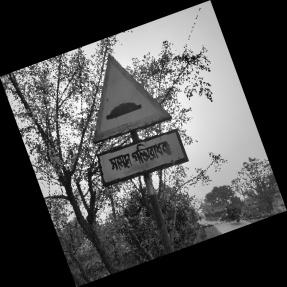Speed-breaker: (92, 54, 188, 187)
